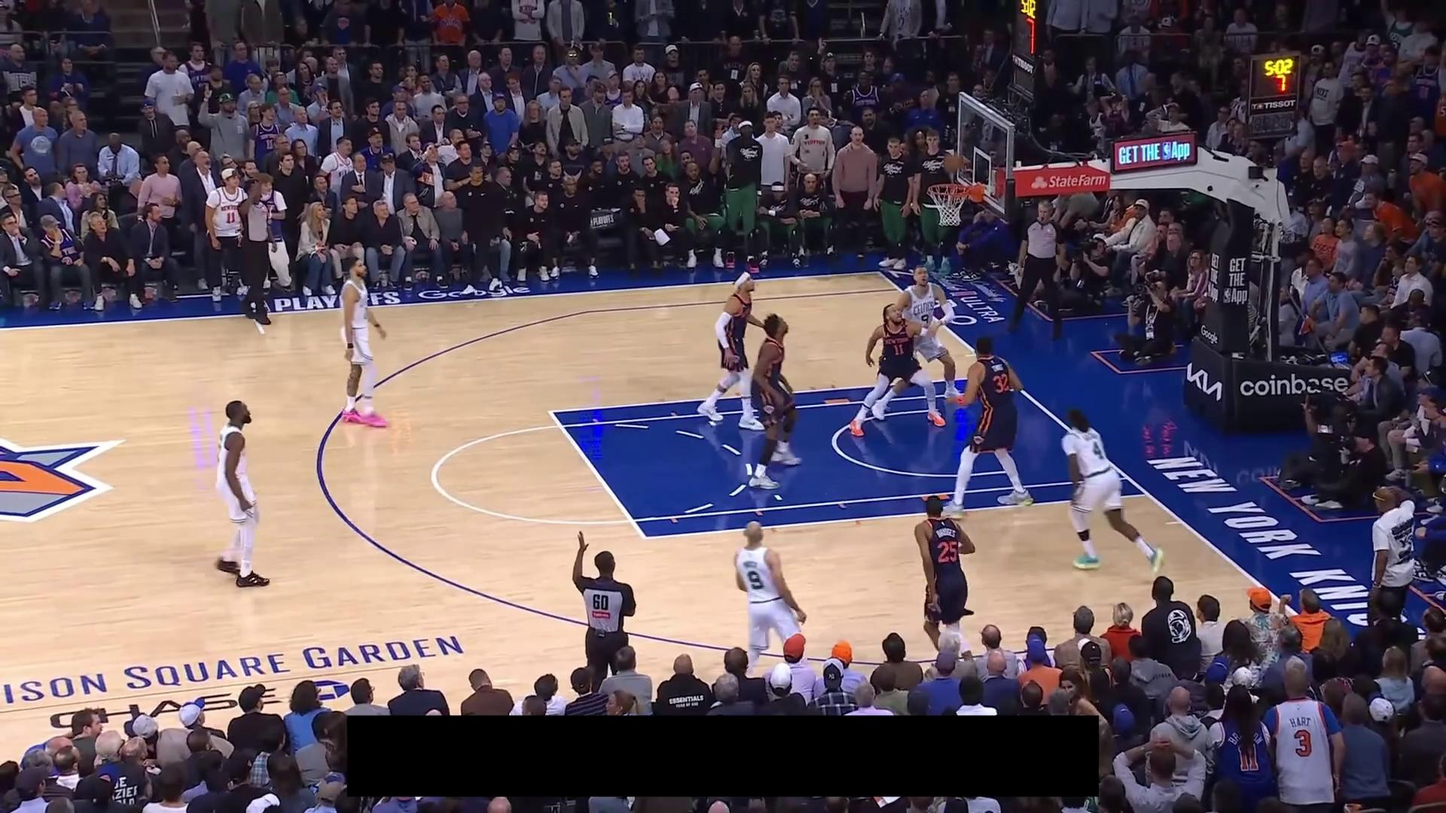ball: (942, 154, 962, 173)
number: (937, 540, 959, 565), (747, 570, 764, 590), (993, 373, 1009, 394), (1091, 441, 1105, 460), (892, 342, 905, 357)
player: (1060, 404, 1166, 577), (939, 334, 1036, 521), (871, 264, 966, 420), (847, 301, 950, 439), (732, 518, 811, 675), (695, 269, 767, 431), (212, 398, 273, 589), (912, 494, 978, 662), (746, 312, 804, 489), (338, 255, 390, 429)
referee: (571, 528, 637, 697), (1007, 199, 1067, 341), (236, 171, 280, 327)
rim: (926, 183, 970, 197)
